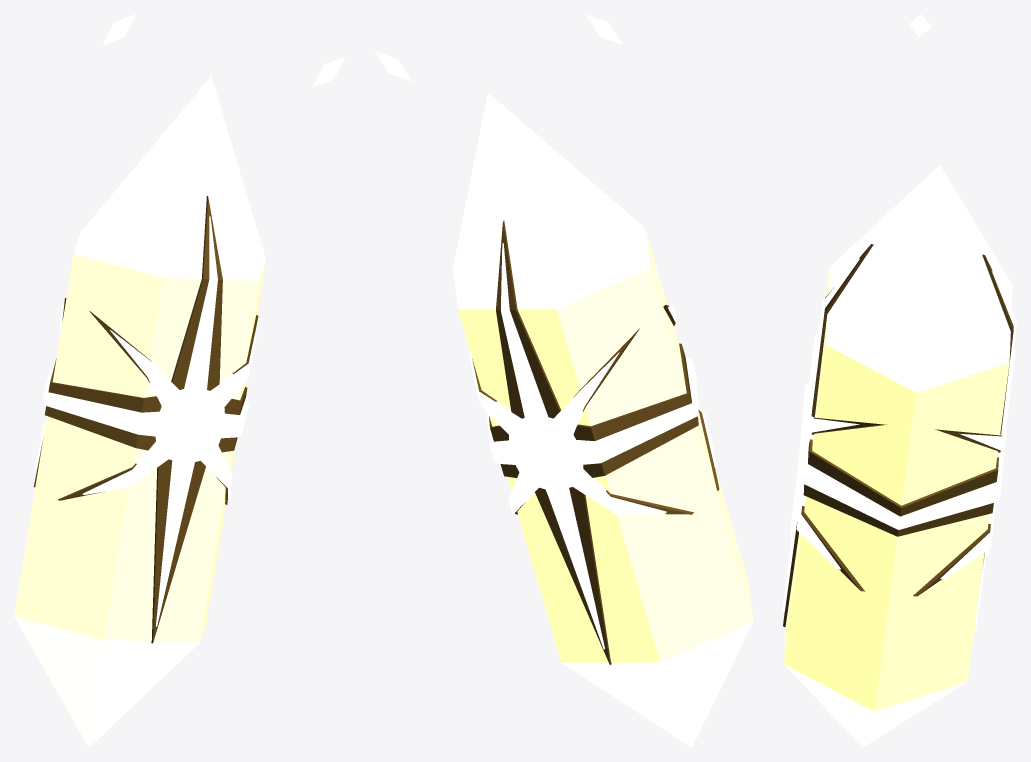
The model's file is nova_shard.glb.
3 renders of one model, left to right at view 1: azimuth 30°, elevation 25°; view 2: azimuth 150°, elevation 25°; view 3: azimuth 270°, elevation 25°, orthographic. The views are drawn at different scales.
Parts seen in each view (by area): view 1: nova_shard; view 2: nova_shard; view 3: nova_shard.
Boxes of the visible parts, x1,y1,x2,y2 form: nova_shard: [14, 14, 345, 747]; nova_shard: [375, 14, 753, 747]; nova_shard: [782, 14, 1016, 747].
Bounding box in the file's own units: 0.1246 × 0.24 × 0.0667.
